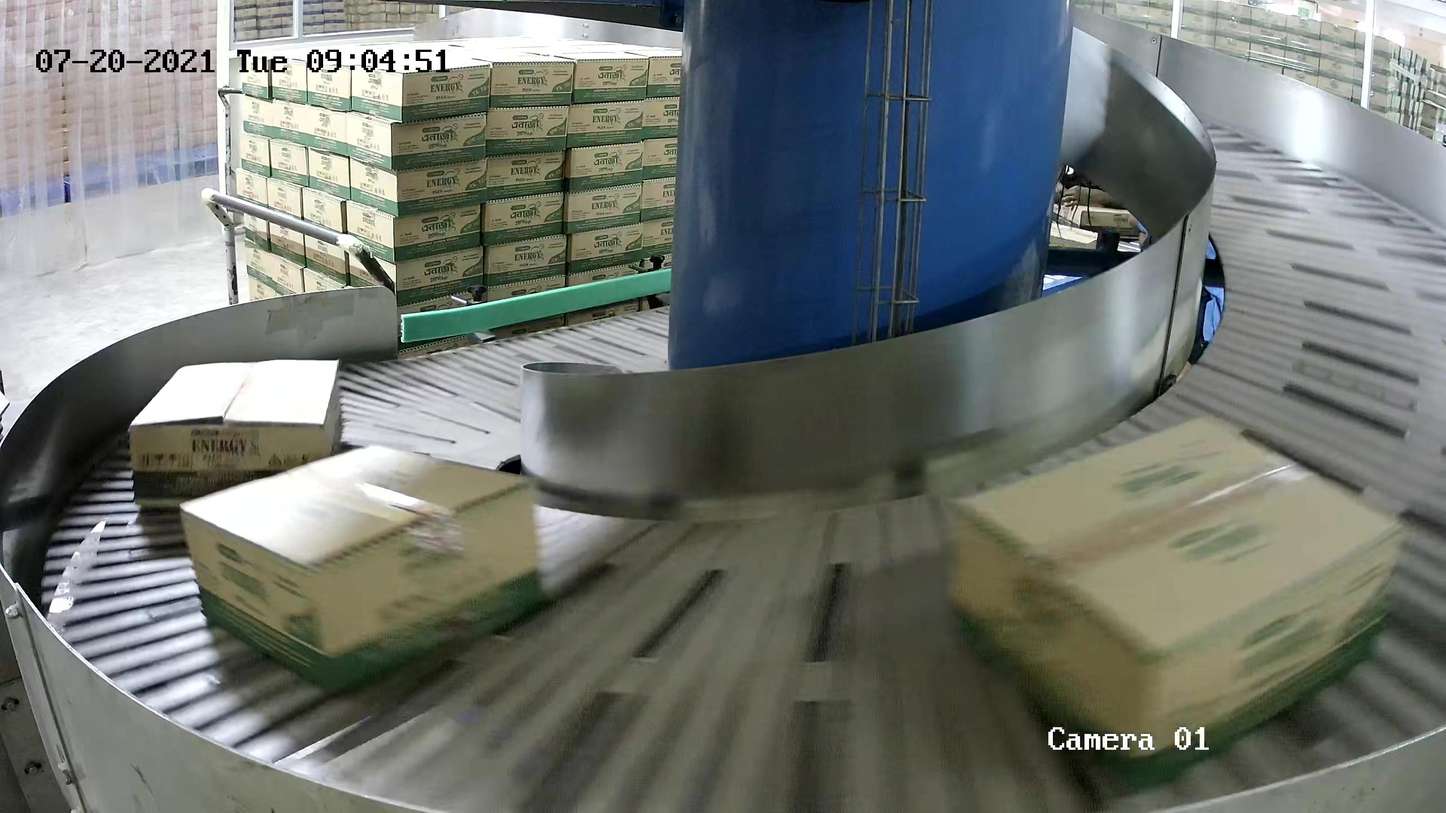Box: (946, 409, 1413, 806), (178, 442, 547, 699), (127, 357, 344, 509)
